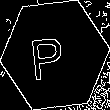P_N: (36, 28, 74, 82)
